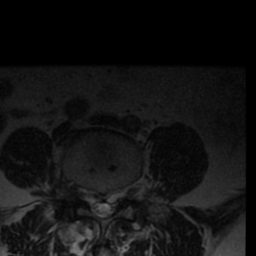CCS_normal: (98, 185, 108, 227)
LFS_normal: (117, 176, 126, 207)
LLS_normal: (108, 177, 117, 221)
RFS_normal: (79, 176, 89, 209)
RLS_normal: (89, 179, 99, 221)
